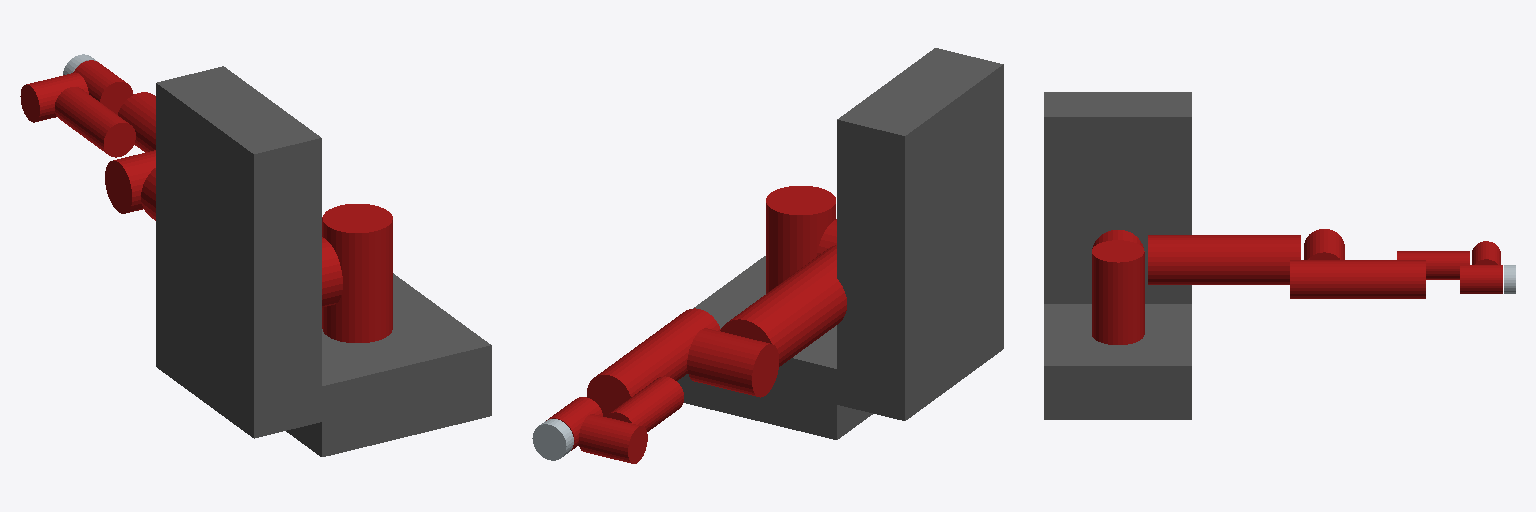
The robot description file, URDF, robot "mm_arm":
<?xml version="1.0" encoding="utf-8"?>
<robot name="mm_arm">
  <material name="grey">
    <color rgba="0.2 0.2 0.2 1.0"/>
  </material>
  <material name="mm_red">
    <color rgba="0.698039215686 0.133333333333 0.133333333333 1.0"/>
  </material>

  <!-- Base link -->
  <link name="base"/>
  <!-- Fixed joint to add dummy inertia link -->
  <joint name="world_to_arm_base" type="fixed">
    <parent link="base"/>
    <child link="arm_base"/>
    <origin rpy="0 0 0" xyz="0 0 0.2"/>
  </joint>
  <!-- Base link -->
  <link name="arm_base">
    <visual>
      <origin rpy="0 0 0" xyz="0 0 -0.1"/>
      <geometry>
        <box size="0.5 0.5 0.2"/>
      </geometry>
      <material name="gray">
        <color rgba="0.411764705882 0.411764705882 0.411764705882 1.0"/>
      </material>
    </visual>
    <visual>
      <origin rpy="0 0 0" xyz="-0.35 0 0.3"/>
      <geometry>
        <box size="0.2 0.5 0.8"/>
      </geometry>
      <material name="gray">
        <color rgba="0.411764705882 0.411764705882 0.411764705882 1.0"/>
      </material>
    </visual>
    <collision>
      <origin rpy="0 0 0" xyz="0 0 -0.1"/>
      <geometry>
        <box size="0.5 0.5 0.2"/>
      </geometry>
    </collision>
    <collision>
      <origin rpy="0 0 0" xyz="-0.35 0 0.3"/>
      <geometry>
        <box size="0.2 0.5 0.8"/>
      </geometry>
    </collision>
  </link>
  <!-- Fixed joint to add dummy inertia link -->
  <joint name="arm_base_to_arm_base_inertia" type="fixed">
    <parent link="arm_base"/>
    <child link="arm_base_inertia"/>
    <origin rpy="0 0 0" xyz="0 0 0"/>
  </joint>
  <!-- Dummy inertia link, because KDL cannot have inertia on the base link -->
  <link name="arm_base_inertia">
    <inertial>
      <origin rpy="0 0 0" xyz="0.0 0.0 0.0648"/>
      <mass value="1000"/>
      <inertia ixx="0.00322" ixy="0.0" ixz="0.0" iyy="0.00322" iyz="0.0" izz="0.0023264"/>
    </inertial>
  </link>

  <!-- Arm components -->
  <!-- shoulder link -->
  <link name="SHOULDER">
    <visual>
      <origin rpy="0.0 0.0 0.0" xyz="0.0 0.0 -0.03"/>
      <geometry>
        <cylinder length="0.31" radius="0.09"/>
      </geometry>
      <material name="mm_red"/>
    </visual>
    <collision name="collision">
      <origin rpy="0.0 0.0 0.0" xyz="0.0 0.0 -0.03"/>
      <geometry>
        <cylinder length="0.31" radius="0.09"/>
      </geometry>
    </collision>
    <inertial>
      <origin rpy="0 0 0" xyz="-0.047924822 0.0 -0.002274739"/>
      <mass value="7.6494994"/>
      <inertia ixx="0.029999999" ixy="3.2869e-05" ixz="0.000721956" iyy="0.059745945" iyz="1.0358e-05" izz="0.056496362"/>
    </inertial>
  </link>
  <!-- Joint: SH_ROT -->
  <joint name="SH_ROT" type="revolute">
    <parent link="arm_base"/>
    <child link="SHOULDER"/>
    <origin rpy="0 0 0" xyz="0.0 0.0 0.189"/>
    <axis xyz="0 0 1"/>
    <limit effort="150.0" lower="-5.23598775598" upper="5.23598775598" velocity="1.308996939"/>
    <dynamics damping="0.1" friction="0.3"/>
  </joint>

  <!-- arm link -->
  <link name="ARM">
    <visual>
      <origin rpy="0.0 0.0 0.0" xyz="0.0 0.0 0.205"/>
      <geometry>
        <cylinder length="0.22" radius="0.09"/>
      </geometry>
      <material name="mm_red"/>
    </visual>
    <visual>
      <origin rpy="0.0 1.57079632679 0.0" xyz="0.36 0.0 0.195"/>
      <geometry>
        <cylinder length="0.52" radius="0.085"/>
      </geometry>
      <material name="mm_red"/>
    </visual>
    <visual>
      <origin rpy="0.0 0.0 0.0" xyz="0.7 0.0 0.205"/>
      <geometry>
        <cylinder length="0.19" radius="0.07"/>
      </geometry>
      <material name="mm_red"/>
    </visual>
    <collision name="collision_motor_1">
      <origin rpy="0.0 0.0 0.0" xyz="0.0 0.0 0.205"/>
      <geometry>
        <cylinder length="0.22" radius="0.09"/>
      </geometry>
    </collision>
    <collision name="collision_arm">
      <origin rpy="0.0 1.57079632679 0.0" xyz="0.36 0.0 0.195"/>
      <geometry>
        <cylinder length="0.52" radius="0.085"/>
      </geometry>
    </collision>
    <collision name="collision_motor_2">
      <origin rpy="0.0 0.0 0.0" xyz="0.7 0.0 0.205"/>
      <geometry>
        <cylinder length="0.19" radius="0.07"/>
      </geometry>
    </collision>
    <inertial>
      <origin rpy="0 0 0" xyz="0.29409722 0.0 0.19270522"/>
      <mass value="13.640494"/>
      <inertia ixx="0.060898243" ixy="-0.00013513623" ixz="-0.013074267" iyy="1.1757653" iyz="-2.6102602e-05" izz="1.1722998"/>
    </inertial>
  </link>
  <!-- Joint: SH_FLE -->
  <joint name="SH_FLE" type="revolute">
    <parent link="SHOULDER"/>
    <child link="ARM"/>
    <origin rpy="-1.57079632679 0 1.57079632679" xyz="0.0 0.0 0.0"/>
    <axis xyz="0 0 1"/>
    <limit effort="150.0" lower="-3.14159265359" upper="0.0" velocity="1.308996939"/>
    <dynamics damping="0.1" friction="0.3"/>
  </joint>
  <!-- Elbow link -->
  <link name="ELBOW">
    <visual>
      <origin rpy="0.0 1.57079632679 0.0" xyz="0.115 0.0 0.0"/>
      <geometry>
        <cylinder length="0.46" radius="0.066"/>
      </geometry>
      <material name="mm_red"/>
    </visual>
    <collision name="collision">
      <origin rpy="0.0 1.57079632679 0.0" xyz="0.115 0.0 0.0"/>
      <geometry>
        <cylinder length="0.46" radius="0.066"/>
      </geometry>
    </collision>
    <inertial>
      <origin rpy="0 0 0" xyz="-0.0045213596 -0.0001046407 0.035705904"/>
      <mass value="4.6480036"/>
      <inertia ixx="0.021549076" ixy="-2.5845846e-05" ixz="-0.00062888563" iyy="0.02331519" iyz="-3.1906253e-05" izz="0.011591539"/>
    </inertial>
  </link>
  <!-- Joint: EL_FLE -->
  <joint name="EL_FLE" type="revolute">
    <parent link="ARM"/>
    <child link="ELBOW"/>
    <origin rpy="0 0 0" xyz="0.7 0.0 0.04"/>
    <axis xyz="0 0 1"/>
    <limit effort="100.0" lower="-2.47836753783" upper="2.47836753783" velocity="2.53072741539"/>
    <dynamics damping="0.1" friction="0.2"/>
  </joint>
  <!-- Forearm link -->
  <link name="FOREARM">
    <visual>
      <origin rpy="0.0 0.0 0.0" xyz="0.0 0.115 0.37"/>
      <geometry>
        <cylinder length="0.25" radius="0.048"/>
      </geometry>
      <material name="mm_red"/>
    </visual>
    <visual>
      <origin rpy="1.57079632679 0.0 0.0" xyz="0.0 0.13 0.55"/>
      <geometry>
        <cylinder length="0.145" radius="0.05"/>
      </geometry>
      <material name="mm_red"/>
    </visual>
    <collision name="collision_farm">
      <origin rpy="0.0 0.0 0.0" xyz="0.0 0.115 0.37"/>
      <geometry>
        <cylinder length="0.25" radius="0.048"/>
      </geometry>
    </collision>
    <collision name="collision_motor">
      <origin rpy="1.57079632679 0.0 0.0" xyz="0.0 0.13 0.55"/>
      <geometry>
        <cylinder length="0.145" radius="0.05"/>
      </geometry>
    </collision>
    <inertial>
      <origin rpy="0 0 0" xyz="-0.00051024005 0.047442921 0.27441632"/>
      <mass value="5.7271652"/>
      <inertia ixx="0.24731453" ixy="-0.00015557711" ixz="-0.0003643398" iyy="0.2306736" iyz="-0.05673063" izz="0.029585235"/>
    </inertial>
  </link>
  <!-- Joint: EL_ROT -->
  <joint name="EL_ROT" type="revolute">
    <parent link="ELBOW"/>
    <child link="FOREARM"/>
    <origin rpy="1.57079632679 0 1.57079632679" xyz="0.0 0.0 0.0"/>
    <axis xyz="0 0 1"/>
    <limit effort="40.0" lower="-5.23598775598" upper="5.23598775598" velocity="2.53072741539"/>
    <dynamics damping="0.1" friction="0.2"/>
  </joint>
  <!-- wrist1 link -->
  <link name="WRIST_1">
    <visual>
      <origin rpy="1.57079632679 0.0 0.0" xyz="0.0 0.016 0.0"/>
      <geometry>
        <cylinder length="0.148" radius="0.05"/>
      </geometry>
      <material name="mm_red"/>
    </visual>
    <collision name="collision">
      <origin rpy="1.57079632679 0.0 0.0" xyz="0.0 0.016 0.0"/>
      <geometry>
        <cylinder length="0.148" radius="0.05"/>
      </geometry>
    </collision>
    <inertial>
      <origin rpy="0 0 0" xyz="0.0 0.0 0.0"/>
      <mass value="1.9710281"/>
      <inertia ixx="0.0066945672" ixy="4.5275e-06" ixz="-7.5009e-06" iyy="0.0055642118" iyz="0.0003509941" izz="0.0038716147"/>
    </inertial>
  </link>
  <!-- Joint: WR_FLE -->
  <joint name="WR_FLE" type="revolute">
    <parent link="FOREARM"/>
    <child link="WRIST_1"/>
    <origin rpy="-1.57079632679 0 0" xyz="0.0 0.0 0.55"/>
    <axis xyz="0 0 1"/>
    <limit effort="40.0" lower="-2.39110107523" upper="2.39110107523" velocity="4.79965544298"/>
    <dynamics damping="0.1" friction="0.1"/>
  </joint>
  <!-- Wrist2 link -->
  <link name="WRIST_2">
    <visual>
      <origin rpy="0.0 0.0 0.0" xyz="0.0 0.0 -0.02"/>
      <geometry>
        <cylinder length="0.038" radius="0.05"/>
      </geometry>Z
      <material name="silver">
        <color rgba="0.737254901961 0.776470588235 0.8 1.0"/>
      </material>
    </visual>
    <collision name="collision">
      <origin rpy="0.0 0.0 0.0" xyz="0.0 0.0 -0.02"/>
      <geometry>
        <cylinder length="0.038" radius="0.05"/>
      </geometry>
    </collision>
    <inertial>
      <origin rpy="0 0 0" xyz="-0.00038203947 -0.0019245031 -0.03"/>
      <mass value="1.7057686"/>
      <inertia ixx="0.0046630423" ixy="-1.6647842e-07" ixz="-2.5100296e-05" iyy="0.0046335717" iyz="4.8450275e-05" izz="0.002284043"/>
    </inertial>
  </link>
  <!-- Joint: WR_ROT -->
  <joint name="WR_ROT" type="revolute">
    <parent link="WRIST_1"/>
    <child link="WRIST_2"/>
    <origin rpy="1.57079632679 0 0" xyz="0.0 -0.1 0.0"/>
    <axis xyz="0 0 1"/>
    <limit effort="40.0" lower="-3.14159265359" upper="3.14159265359" velocity="4.79965544298"/>
    <dynamics damping="0.1" friction="0.1"/>
  </joint>
</robot>

--- What the picture shows (computed from the rendered views, not written in the file) ---
Views: 3 orthographic renders of the robot side by side, from view 1: azimuth 30°, elevation 25°; view 2: azimuth 150°, elevation 25°; view 3: azimuth 270°, elevation 25°.
Model mm_arm with 9 links and 8 joints (6 revolute, 2 fixed), rooted at base, posed every joint at zero.
Links seen in each view (by area): view 1: arm_base, SHOULDER, FOREARM, ARM, WRIST_1, ELBOW; view 2: arm_base, ARM, ELBOW, SHOULDER, FOREARM, WRIST_2, WRIST_1; view 3: arm_base, ARM, SHOULDER, ELBOW, FOREARM, WRIST_1.
Link boxes in pixels (x1,y1,x2,y2): arm_base: [156, 66, 491, 456]; SHOULDER: [322, 204, 392, 342]; FOREARM: [20, 72, 135, 157]; ARM: [105, 150, 342, 307]; WRIST_1: [73, 60, 133, 114]; ELBOW: [118, 92, 155, 152]; arm_base: [677, 48, 1003, 439]; ARM: [687, 219, 846, 397]; ELBOW: [587, 308, 720, 416]; SHOULDER: [766, 186, 835, 293]; FOREARM: [579, 376, 683, 463]; WRIST_2: [532, 419, 573, 460]; WRIST_1: [546, 397, 602, 450]; arm_base: [1044, 92, 1191, 419]; ARM: [1092, 229, 1344, 284]; SHOULDER: [1092, 240, 1144, 344]; ELBOW: [1290, 260, 1425, 298]; FOREARM: [1397, 241, 1500, 279]; WRIST_1: [1460, 265, 1502, 293].
Size in the robot's own frame: 0.7 by 1.6 by 0.9 metres.
Geometry: primitives only (box / cylinder / sphere), no mesh files.
